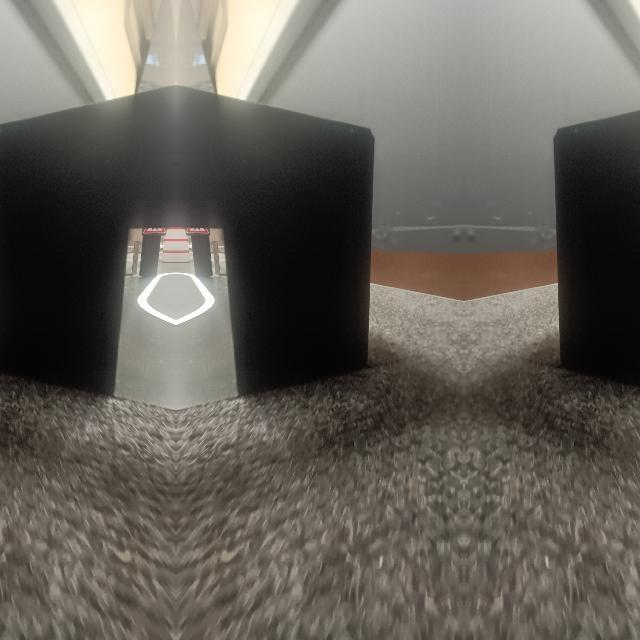obstacle: (174, 84, 373, 396), (0, 83, 175, 396), (553, 83, 640, 396)
